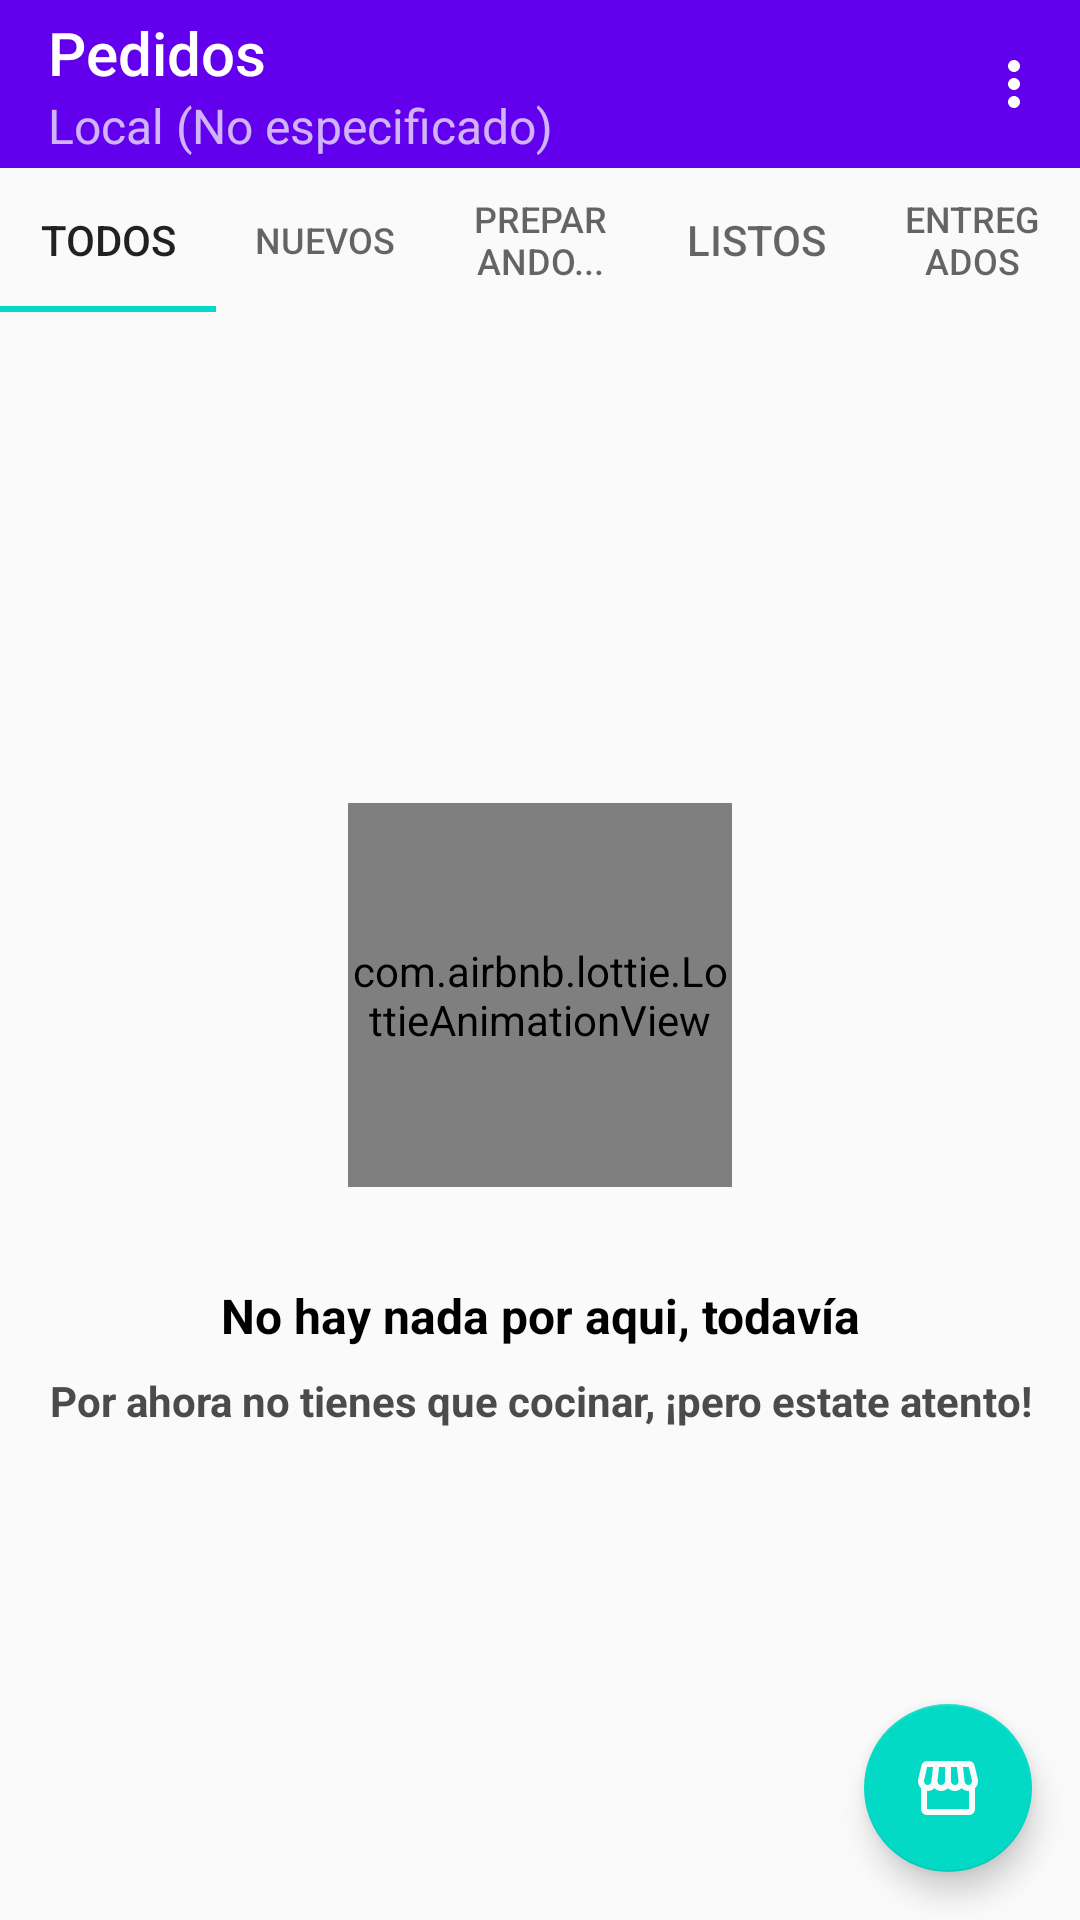

Where to tap for icons on this 1080 × 1920 app screen, as (x,y):
storefront: (948,1788)
